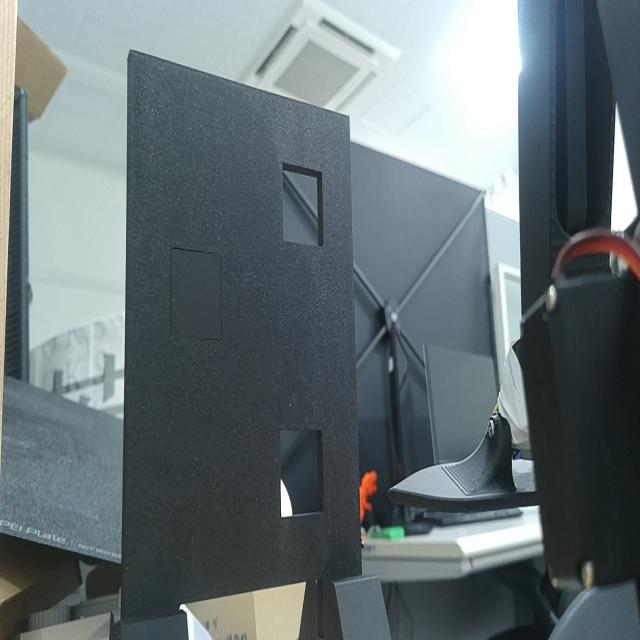Obstacle: (280, 429, 324, 519), (282, 165, 322, 247)
Wall: (120, 51, 361, 624)
